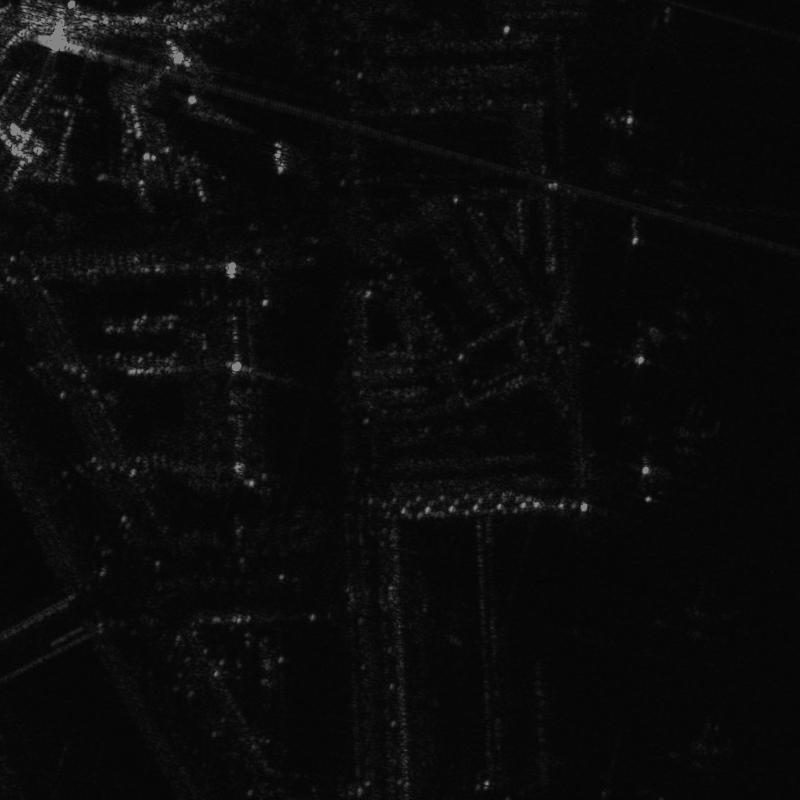A220: (661, 717, 741, 783), (608, 315, 685, 382), (625, 450, 679, 505), (603, 104, 666, 141), (619, 216, 664, 264)
